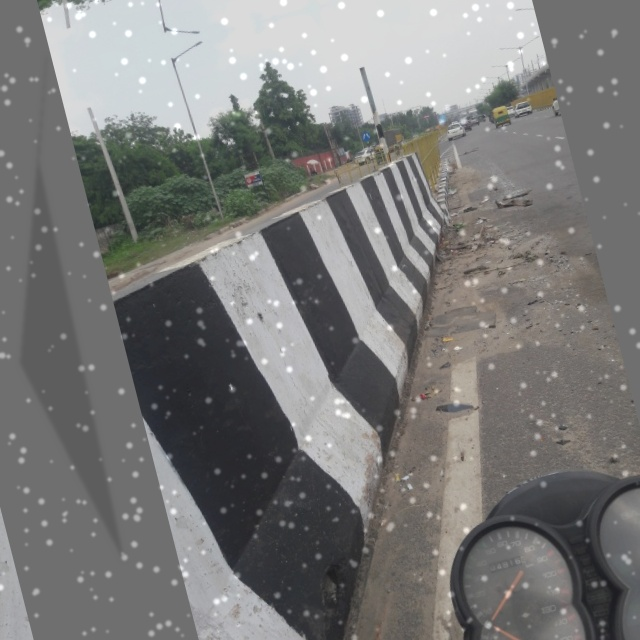Pass_Either_Side: (357, 127, 370, 141)
